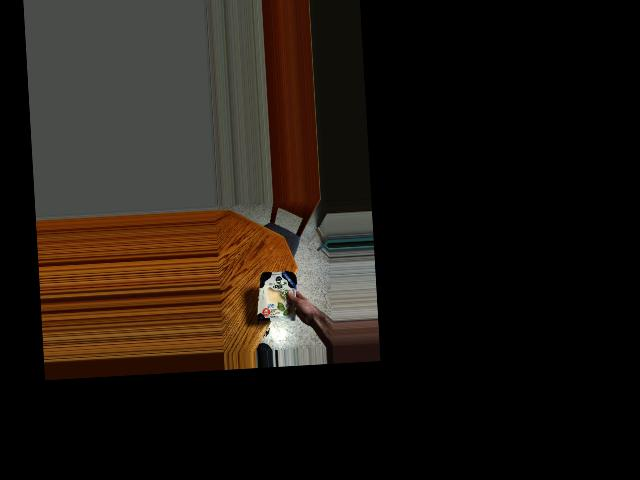cheese: (260, 263, 302, 331)
